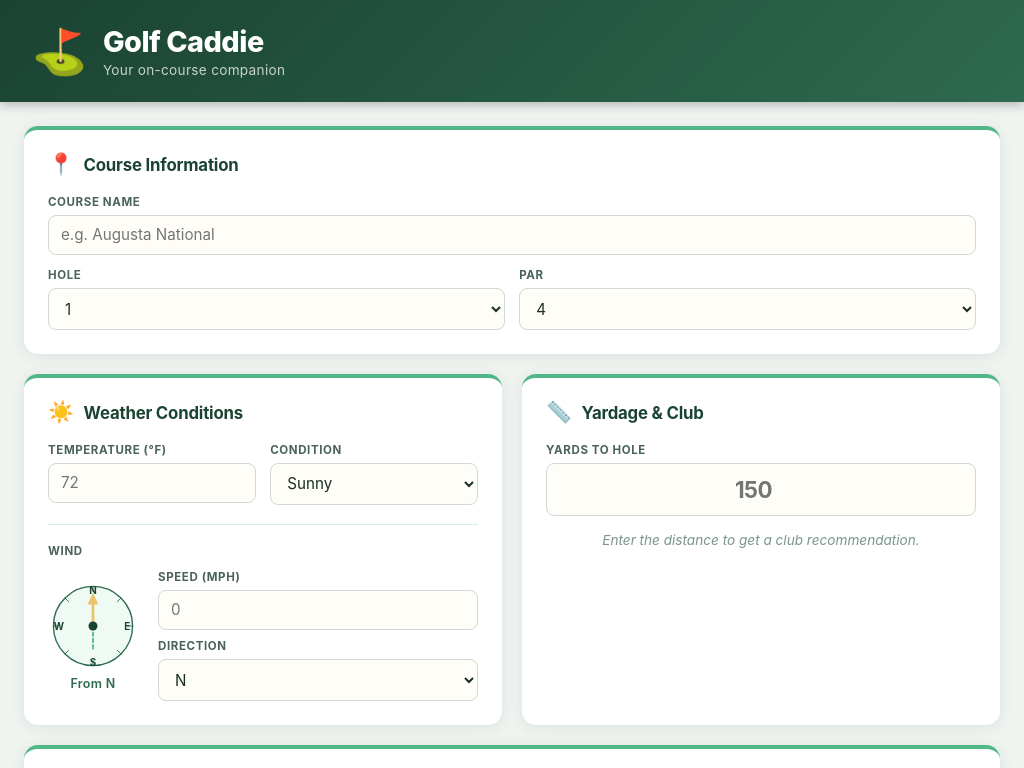
Test: YardageClub › recommends 7 Iron for 135 yards
Type "135" into the number field labelled "Yards to Hole" at (761, 489), box [546,462,976,516]
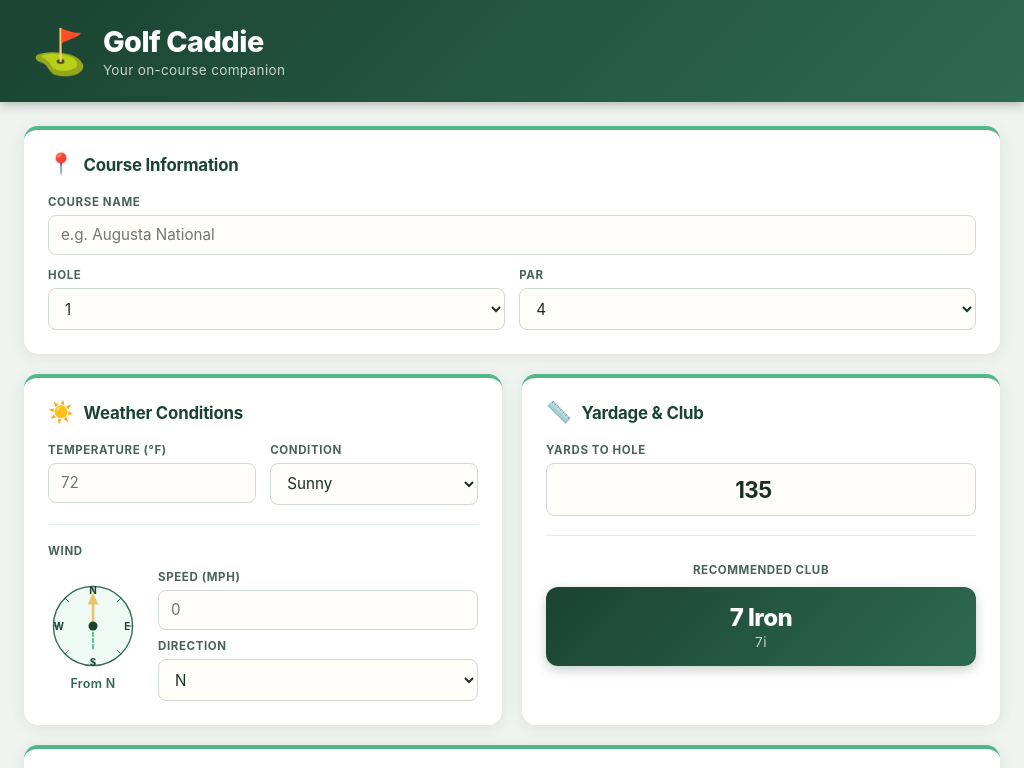
Check: the text "7 Iron" is shown, box [730,602,792,632]
